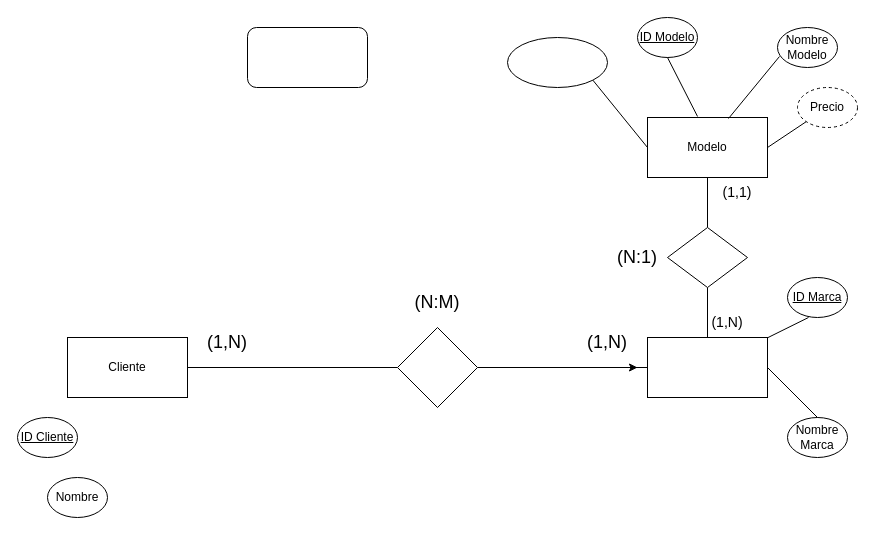
This 875x535 diagram has some shape labels left out. Each missing label, with the centre of its shape:
"Compra" belongs at pixel 437 367.
"especificaciones técnicas" belongs at pixel 557 62.
"Marcas de Producto" belongs at pixel 707 367.
"Tienda de Electronica" belongs at pixel 307 57.
"Tiene" belongs at pixel 707 257.
